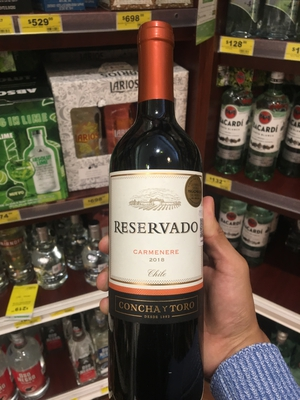reservado carmenere: (106, 27, 206, 395)
